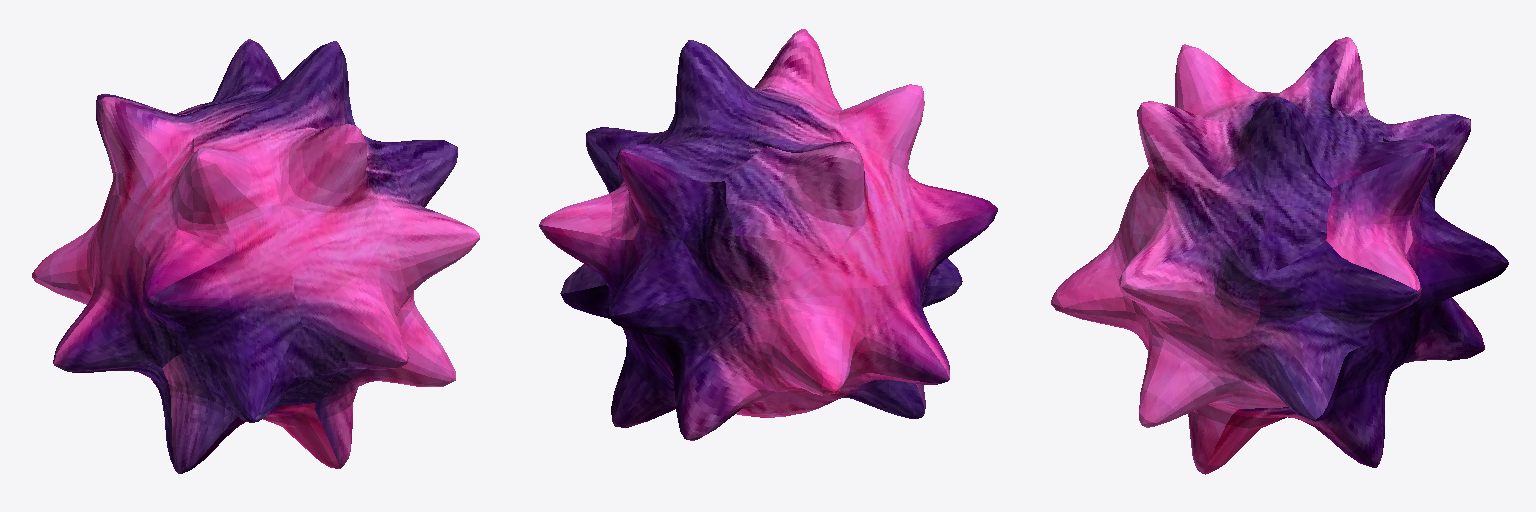
3 renders of one model, left to right at view 1: azimuth 30°, elevation 25°; view 2: azimuth 150°, elevation 25°; view 3: azimuth 270°, elevation 25°, orthographic.
Visible parts, largest first — view 1: virus_textured:group virus_textured:pSolid1 virus_textured:polyS; view 2: virus_textured:group virus_textured:pSolid1 virus_textured:polyS; view 3: virus_textured:group virus_textured:pSolid1 virus_textured:polyS.
Boxes of the visible parts, x1=… form: virus_textured:group virus_textured:pSolid1 virus_textured:polyS: x1=32, y1=39, x2=479, y2=473; virus_textured:group virus_textured:pSolid1 virus_textured:polyS: x1=539, y1=29, x2=997, y2=440; virus_textured:group virus_textured:pSolid1 virus_textured:polyS: x1=1051, y1=37, x2=1508, y2=474.
Size of the model in its own units: 2.51 by 2.45 by 2.59.
1 materials, 1 textured.